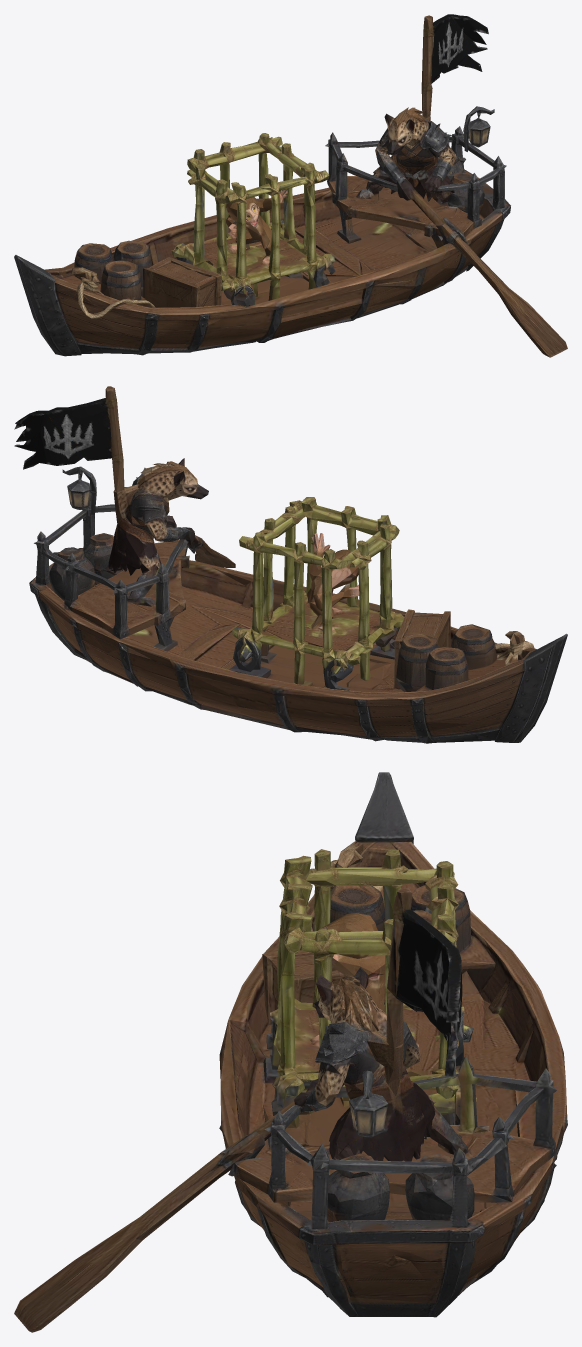
Rendered from KodaBarge.fbx.
3 views of the same model, one above another, from view 1: azimuth 30°, elevation 25°; view 2: azimuth 150°, elevation 25°; view 3: azimuth 270°, elevation 25° (orthographic). The views are drawn at different scales.
Parts seen in each view (by area): view 1: KodaBarge, Cage; view 2: KodaBarge, Cage; view 3: KodaBarge, Cage.
Part boxes in pixels (x1,y1,x2,y2): KodaBarge: (14, 14, 567, 357); Cage: (172, 133, 329, 277); KodaBarge: (14, 386, 567, 743); Cage: (239, 497, 414, 653); KodaBarge: (14, 772, 567, 1332); Cage: (277, 849, 459, 1068).
Bounding box in the file's own units: 6 × 2.97 × 3.54.
Materials: 1 (1 with a texture image).
